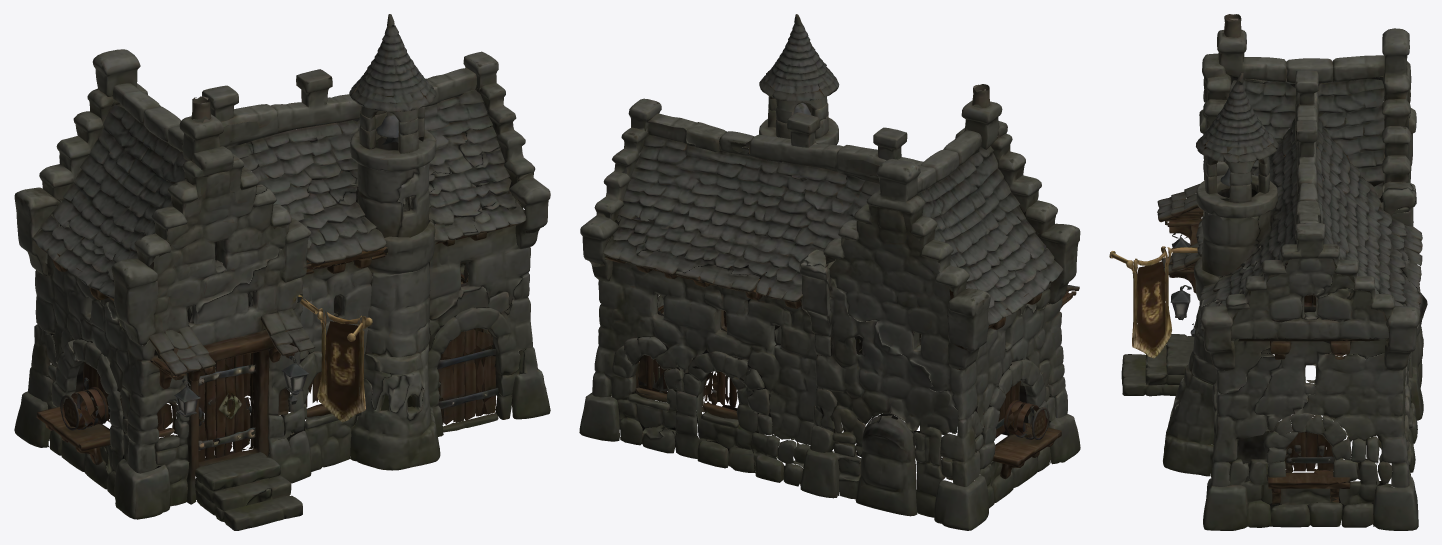
File: shop-hero.glb
The picture shows the model from 3 angles, left to right: view 1: azimuth 30°, elevation 25°; view 2: azimuth 150°, elevation 25°; view 3: azimuth 270°, elevation 25°; orthographic projection. The views are drawn at different scales.
Parts seen in each view (by area): view 1: world; view 2: world; view 3: world.
Part boxes in pixels (x1,y1,x2,y2): world: [14, 14, 550, 530]; world: [579, 14, 1080, 530]; world: [1109, 14, 1427, 530].
Size of the model in its own units: 0.9998 by 0.91 by 0.6666.
1 material, 1 textured.
